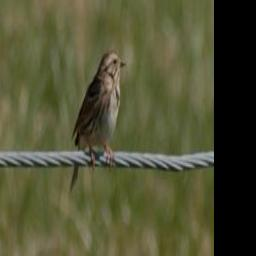Sparrow: (69, 46, 130, 194)
